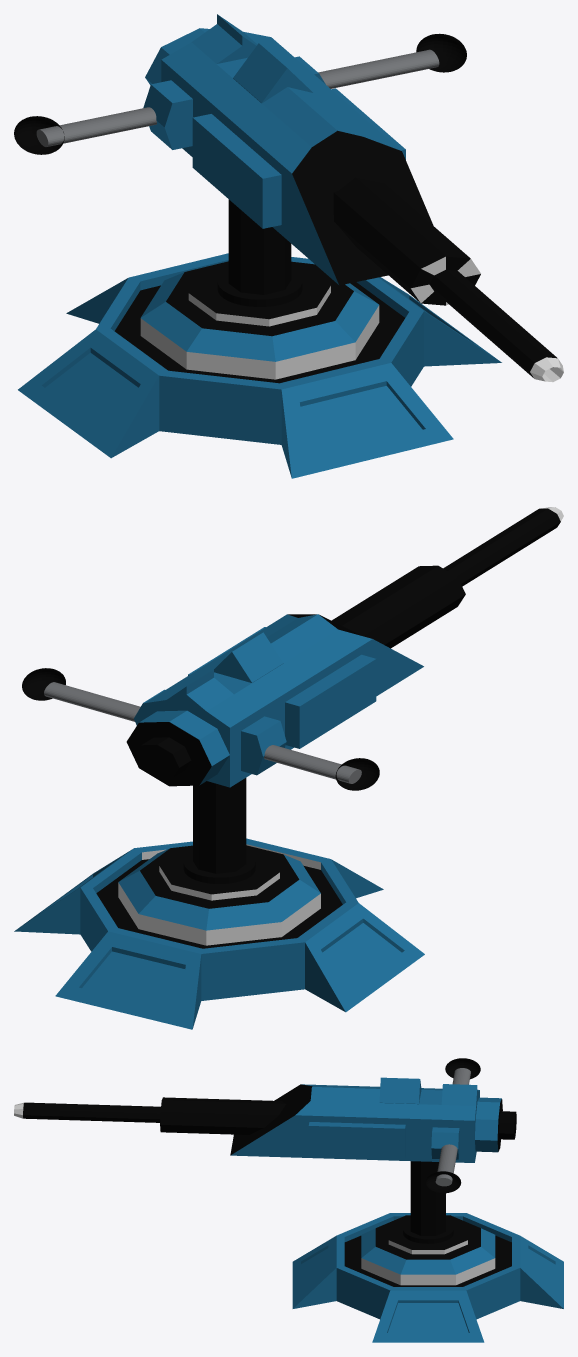
File: turret.fbx
The picture shows the model from 3 angles, top to bottom: view 1: azimuth 30°, elevation 25°; view 2: azimuth 150°, elevation 25°; view 3: azimuth 270°, elevation 25°; orthographic projection. The views are drawn at different scales.
Parts seen in each view (by area): view 1: base, Cube, cannon, Cylinder, stem, rotator, Sphere, Sphere.001; view 2: base, Cube, cannon, stem, Cylinder, rotator, Sphere, Sphere.001; view 3: base, Cube, cannon, stem, Cylinder, rotator, Sphere, Sphere.001.
Part boxes in pixels (x1,y1,x2,y2): base: [18, 253, 501, 478]; Cube: [143, 14, 433, 285]; cannon: [145, 28, 563, 382]; Cylinder: [36, 49, 439, 146]; stem: [228, 199, 291, 294]; rotator: [217, 270, 302, 306]; Sphere: [416, 33, 466, 72]; Sphere.001: [14, 116, 64, 154]; base: [14, 838, 424, 1029]; Cube: [134, 614, 423, 787]; cannon: [126, 507, 563, 786]; stem: [193, 778, 246, 873]; Cylinder: [44, 682, 361, 783]; rotator: [183, 852, 255, 883]; Sphere: [22, 668, 65, 700]; Sphere.001: [335, 758, 379, 790]; base: [292, 1213, 563, 1342]; Cube: [230, 1077, 479, 1162]; cannon: [14, 1097, 516, 1152]; stem: [410, 1161, 445, 1235]; Cylinder: [435, 1068, 470, 1186]; rotator: [403, 1221, 453, 1243]; Sphere: [426, 1171, 461, 1193]; Sphere.001: [445, 1058, 480, 1079].
Size of the model in its own units: 202 by 154 by 375.
